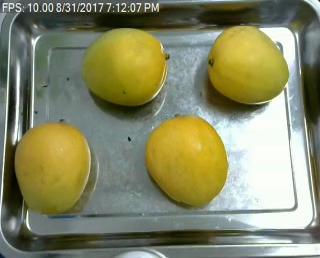Mango: (139, 113, 233, 209), (76, 30, 177, 113), (15, 119, 96, 218), (203, 22, 292, 105)
